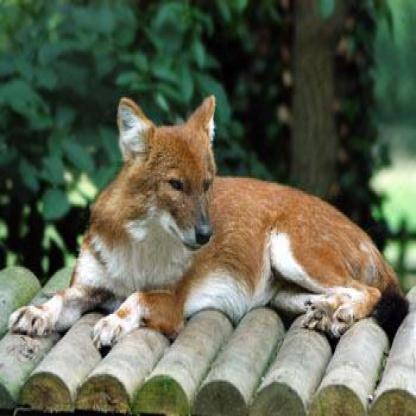dhole: (6, 90, 406, 344)
